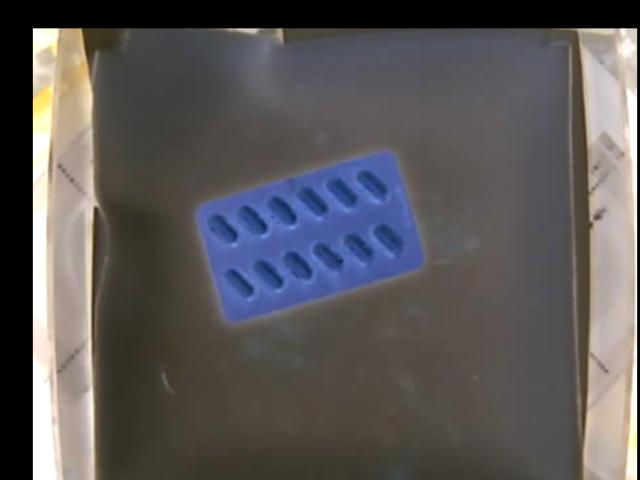Medicine: (195, 152, 421, 322)
